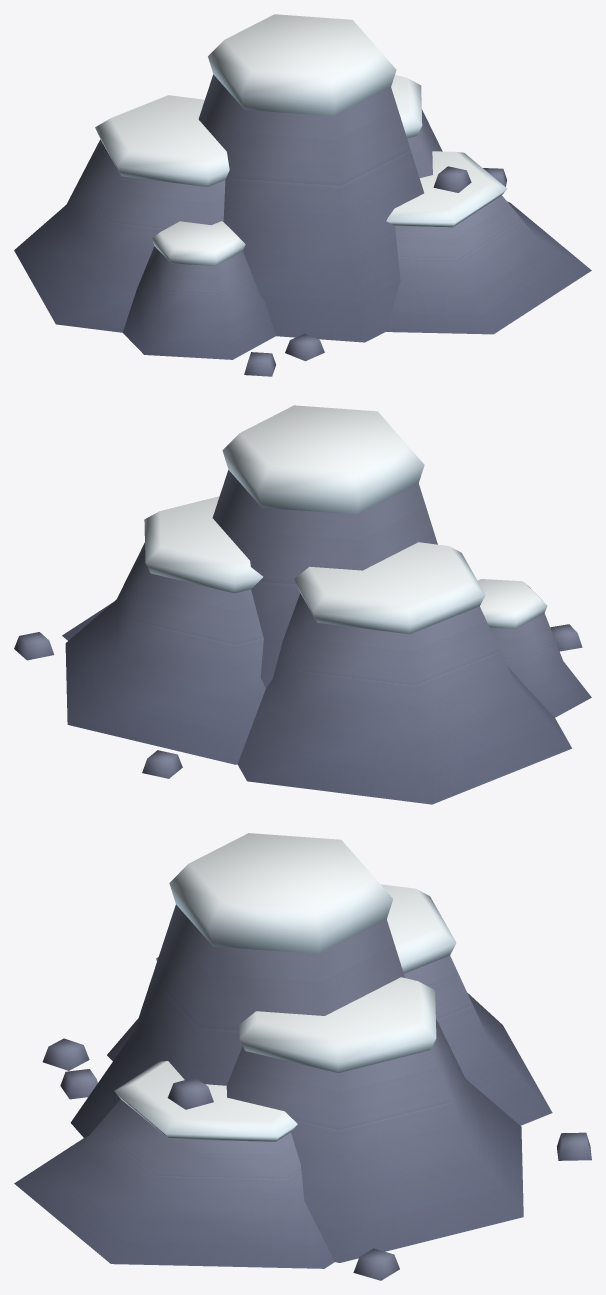
File: rocks-medium.glb
3 renders of one model, top to bottom at view 1: azimuth 30°, elevation 25°; view 2: azimuth 150°, elevation 25°; view 3: azimuth 270°, elevation 25°, orthographic. The views are drawn at different scales.
Visible parts, largest first — view 1: rocks-medium; view 2: rocks-medium; view 3: rocks-medium.
Boxes of the visible parts, box(x1,y1,x2,y2) form: rocks-medium: box(14, 14, 591, 376); rocks-medium: box(14, 405, 591, 804); rocks-medium: box(14, 833, 591, 1280).
Size of the model in its own units: 1.98 by 0.8785 by 1.72.
Materials: 1 (1 with a texture image).
